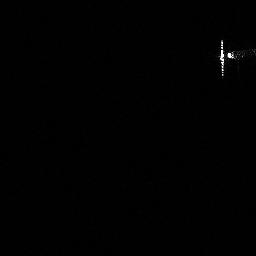ship: (214, 36, 256, 81)
